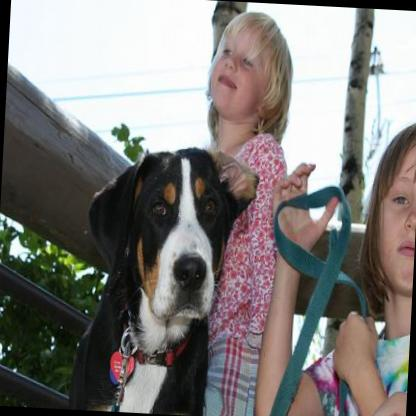Greater_Swiss_Mountain_dog: (66, 139, 260, 416)
